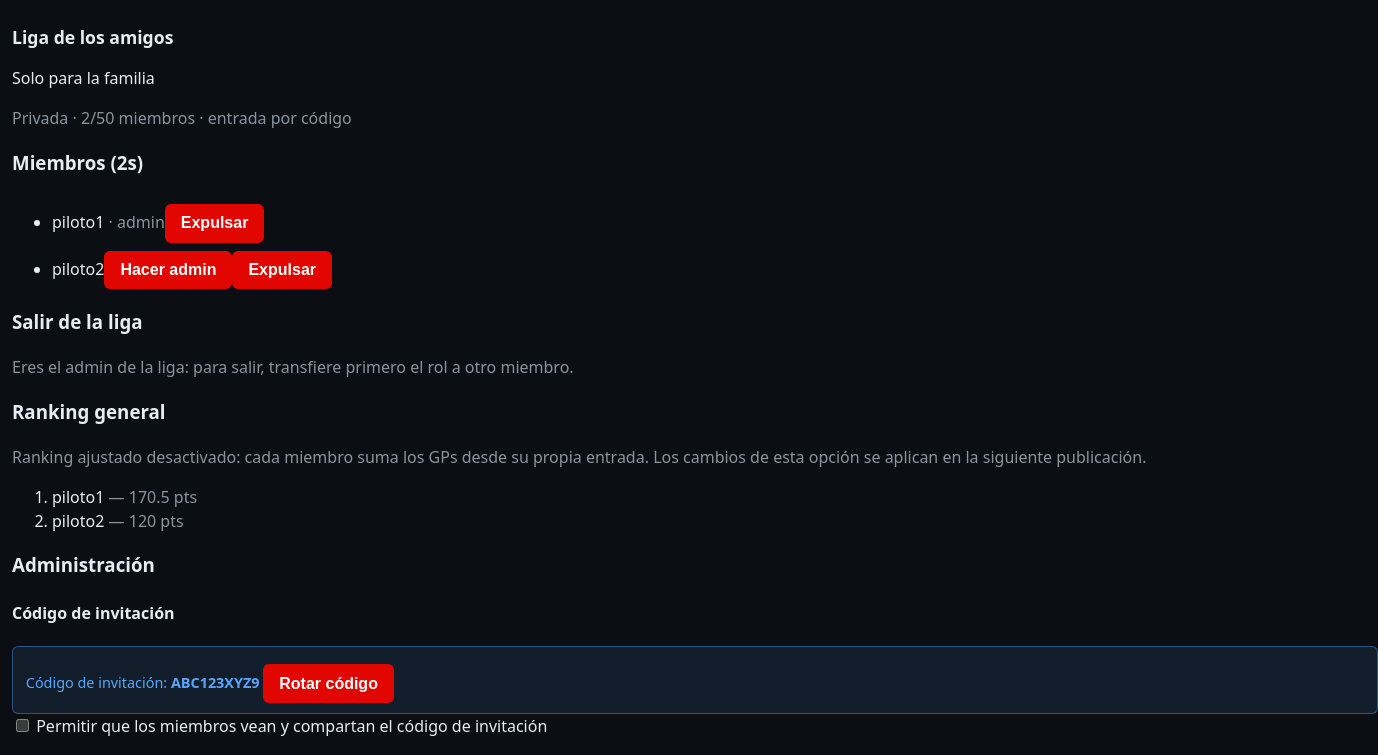
Test: LeagueDetailPage (US-24) › si la rotación falla muestra el motivo del servidor
Click the button "Rotar código". click: (329, 684)
box: [263, 664, 394, 703]
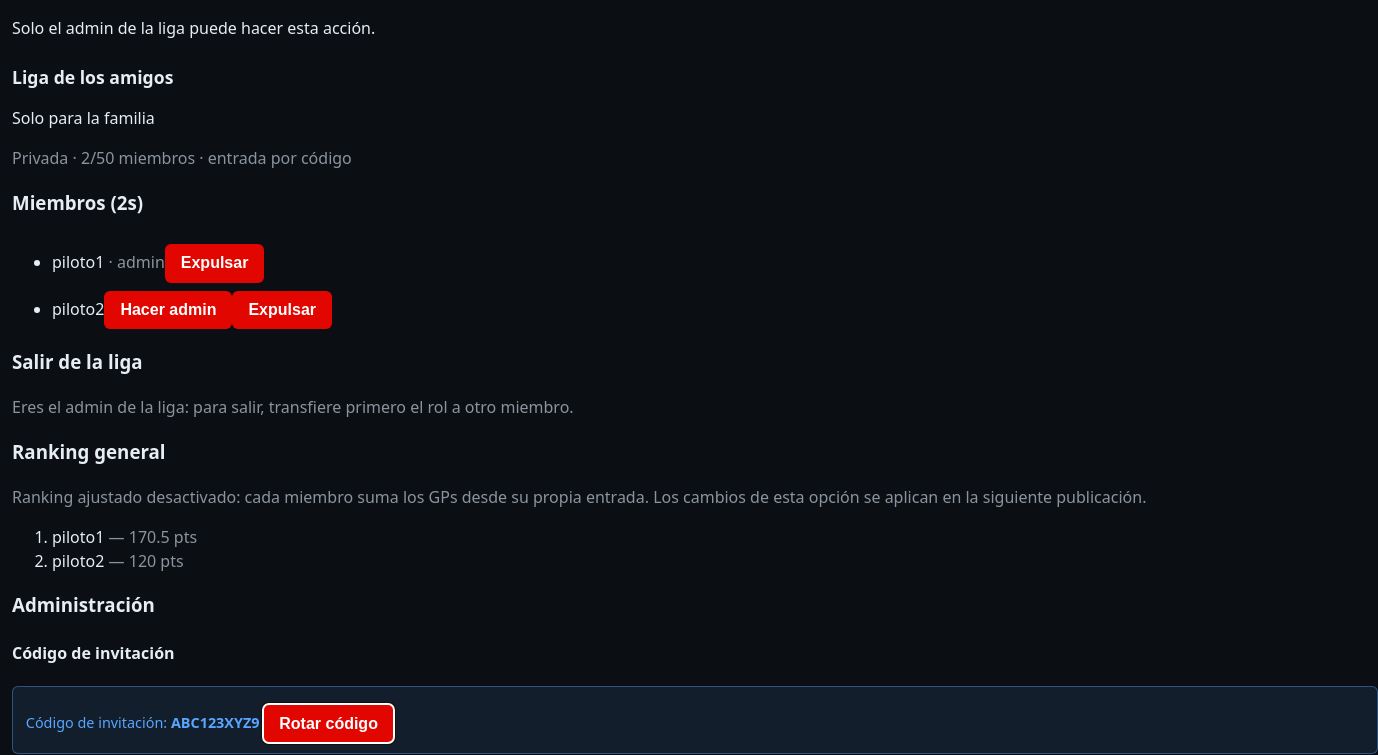
Now the text "Solo el admin de la liga puede hacer esta acción." is shown, box [12, 17, 375, 39]
